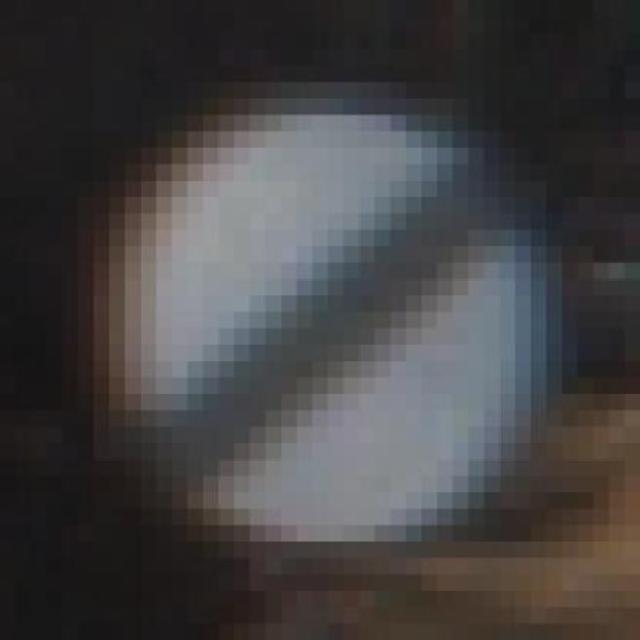End of all speed and passing limits: (78, 49, 562, 558)
